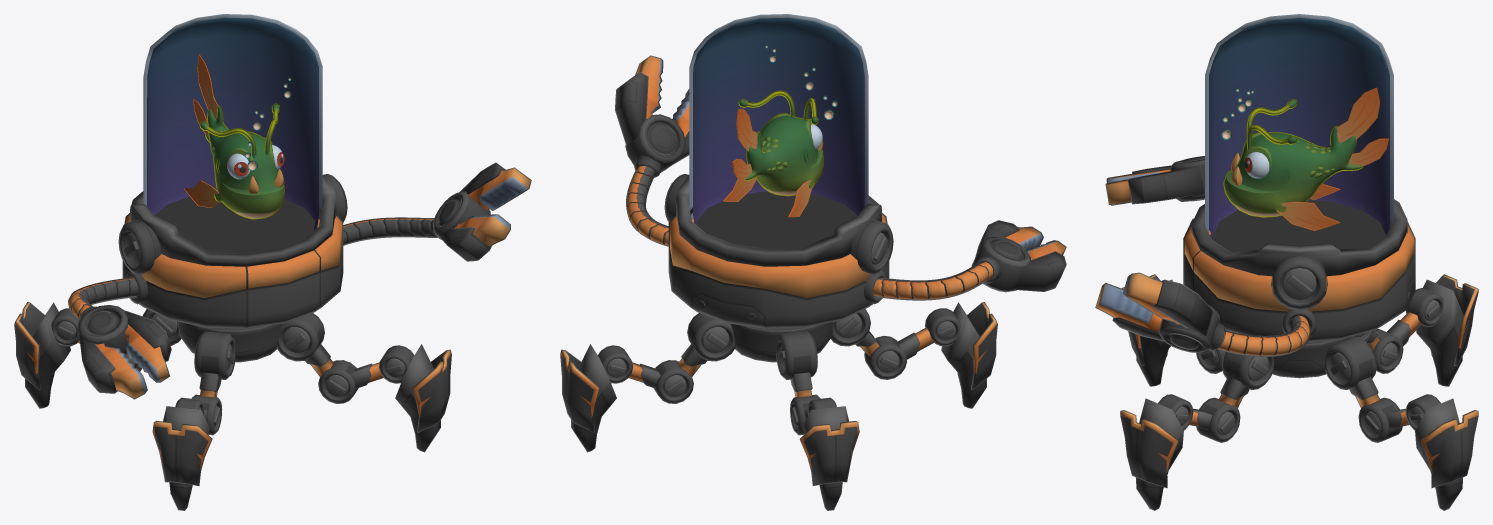
Rendered from fish-77.glb.
3 renders of one model, left to right at view 1: azimuth 30°, elevation 25°; view 2: azimuth 150°, elevation 25°; view 3: azimuth 270°, elevation 25°, orthographic. The views are drawn at different scales.
Parts seen in each view (by area): view 1: Traje, Fish; view 2: Traje, Fish; view 3: Traje, Fish.
Boxes of the visible parts, x1,y1,x2,y2 form: Traje: [14, 14, 531, 510]; Fish: [184, 54, 284, 219]; Traje: [560, 14, 1066, 510]; Fish: [723, 90, 823, 217]; Traje: [1095, 14, 1478, 510]; Fish: [1223, 87, 1389, 230].
Bounding box in the file's own units: 6.8 × 5.78 × 4.95.
Materials: 1 (1 with a texture image).
